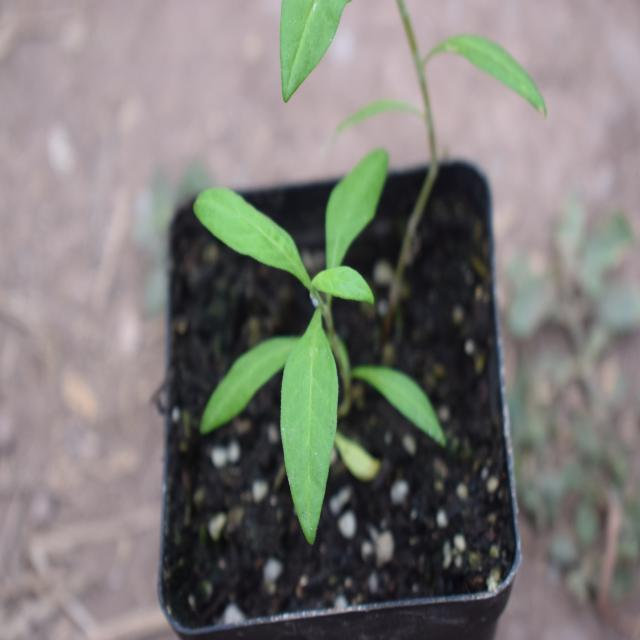white_smart_weed: (160, 172, 454, 522)
